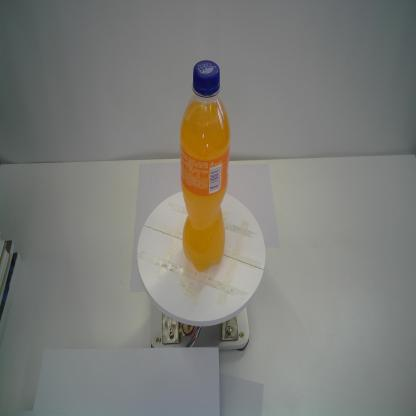Drink: (178, 58, 233, 276)
